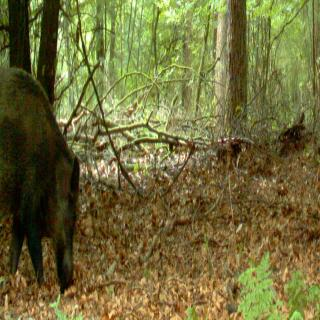Pig: (0, 32, 100, 320)
